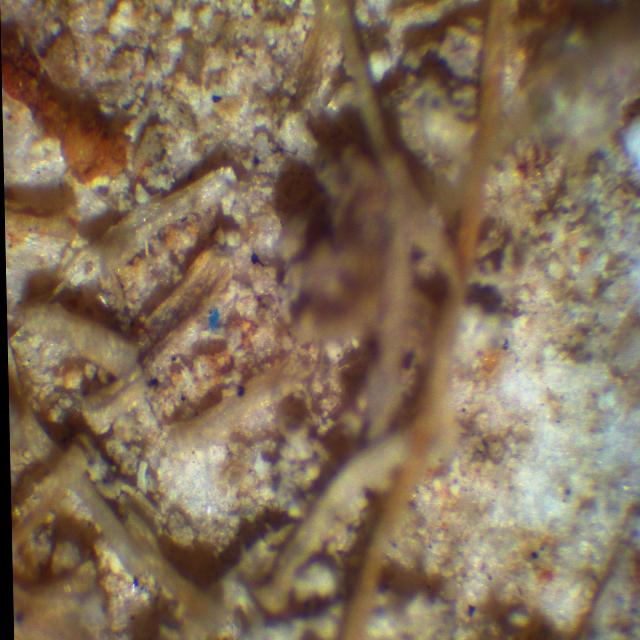microplastic: (204, 306, 221, 331)
